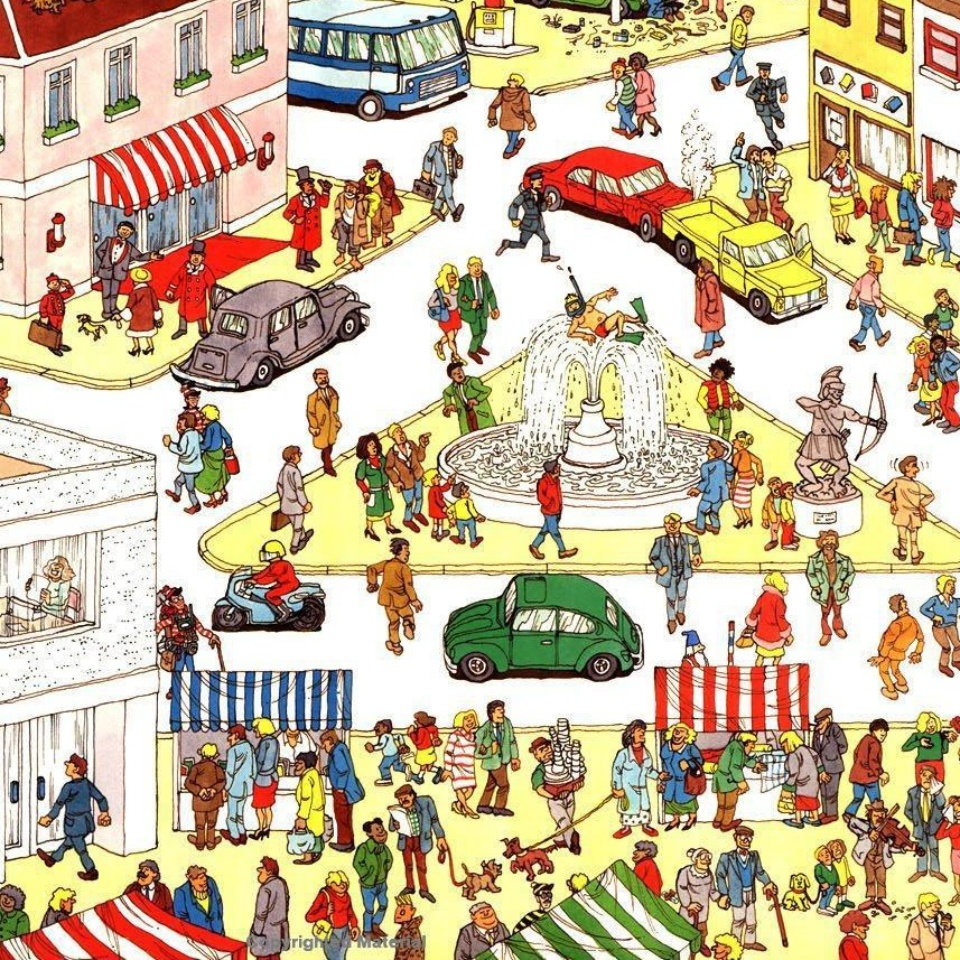waldo: (157, 583, 224, 668)
